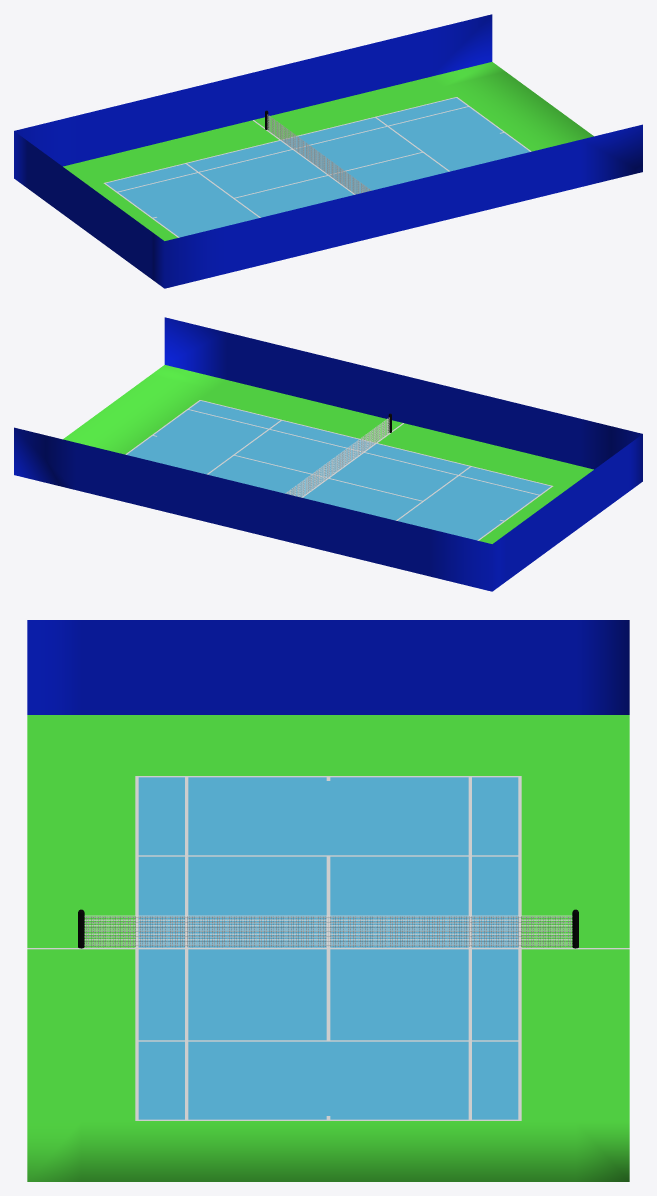
Rendered from Tennis Court.fbx.
3 renders of one model, top to bottom at view 1: azimuth 30°, elevation 25°; view 2: azimuth 150°, elevation 25°; view 3: azimuth 270°, elevation 25°, orthographic. The views are drawn at different scales.
Parts seen in each view (by area): view 1: Plane.001, Plane, ofb, mb, mfl, ofr.001, ofr, ofl, Stipes; view 2: Plane.001, Plane, ofb, mb, ofr, ofl, mfl, ofr.001, Stipes; view 3: Plane, Plane.001, ofb, mb, Stipes, ofl, ofr.001, mfl, ofr.
Boxes of the visible parts, box(x1,y1,x2,y2) form: Plane.001: box(14, 14, 642, 288); Plane: box(63, 62, 593, 240); ofb: box(388, 106, 531, 171); mb: box(116, 172, 258, 237); mfl: box(197, 149, 326, 197); ofr.001: box(294, 126, 422, 174); ofr: box(234, 176, 353, 217); ofl: box(330, 152, 449, 194); Stipes: box(267, 114, 371, 194); Plane.001: box(14, 317, 642, 591); Plane: box(63, 365, 593, 543); ofb: box(125, 409, 268, 474); mb: box(398, 475, 540, 540); ofr: box(330, 452, 459, 500); ofl: box(234, 429, 362, 477); mfl: box(303, 479, 422, 520); ofr.001: box(207, 455, 326, 497); Stipes: box(285, 417, 389, 497); Plane: box(27, 715, 629, 1181); Plane.001: box(27, 620, 629, 714); ofb: box(185, 1041, 471, 1120); mb: box(185, 776, 471, 855); Stipes: box(84, 915, 572, 947); ofl: box(185, 949, 326, 1041); ofr.001: box(330, 949, 471, 1041); mfl: box(330, 855, 471, 947); ofr: box(185, 855, 326, 947).
Bounding box in the file's own units: 3283 × 312 × 1791.
